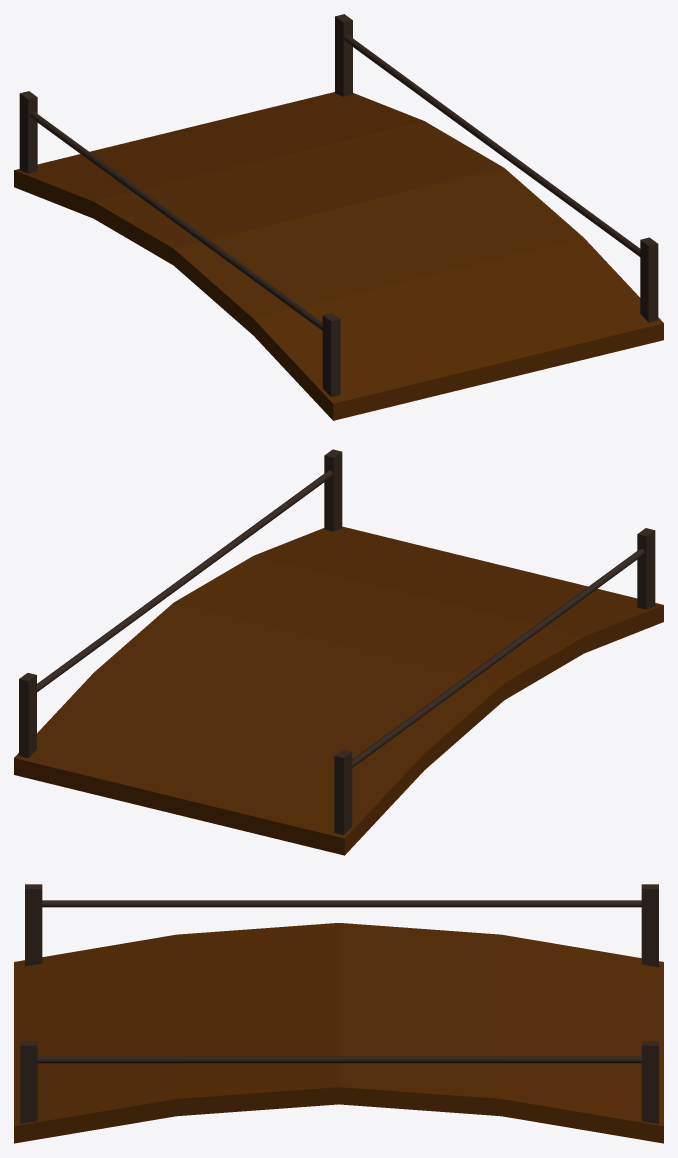
Rendered from Bridge_New.fbx.
The picture shows the model from 3 angles, top to bottom: view 1: azimuth 30°, elevation 25°; view 2: azimuth 150°, elevation 25°; view 3: azimuth 270°, elevation 25°; orthographic projection.
Parts seen in each view (by area): view 1: Cube, Cylinder.001, Cylinder, Cube.004, Cube.003, Cube.001, Cube.002; view 2: Cube, Cylinder.001, Cylinder, Cube.001, Cube.002, Cube.004, Cube.003; view 3: Cube, Cylinder.001, Cylinder, Cube.001, Cube.002, Cube.004, Cube.003.
Boxes of the visible parts, x1,y1,x2,y2 form: Cube: [14, 92, 663, 420]; Cylinder.001: [344, 35, 640, 256]; Cylinder: [30, 112, 322, 330]; Cube.004: [640, 237, 658, 322]; Cube.003: [322, 312, 340, 397]; Cube.001: [19, 91, 37, 173]; Cube.002: [335, 14, 352, 96]; Cube: [14, 526, 663, 855]; Cylinder.001: [37, 470, 332, 692]; Cylinder: [352, 548, 644, 767]; Cube.001: [334, 749, 352, 835]; Cube.002: [19, 673, 36, 758]; Cube.004: [324, 449, 342, 531]; Cube.003: [637, 528, 655, 609]; Cube: [14, 923, 663, 1143]; Cylinder.001: [37, 1056, 641, 1063]; Cylinder: [42, 900, 641, 907]; Cube.001: [641, 884, 658, 967]; Cube.002: [641, 1041, 658, 1123]; Cube.004: [20, 1041, 37, 1123]; Cube.003: [25, 884, 42, 966].
Size of the model in its own units: 477 by 131 by 798.
